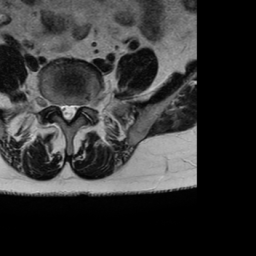CCS_normal: (65, 98, 71, 127)
LFS_severe_stenosis: (79, 97, 87, 116)
LLS_normal: (71, 98, 78, 119)
RFS_severe_stenosis: (52, 95, 58, 116)
RLS_normal: (58, 97, 65, 119)
